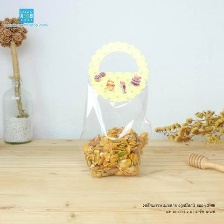snack: (72, 37, 157, 182)
